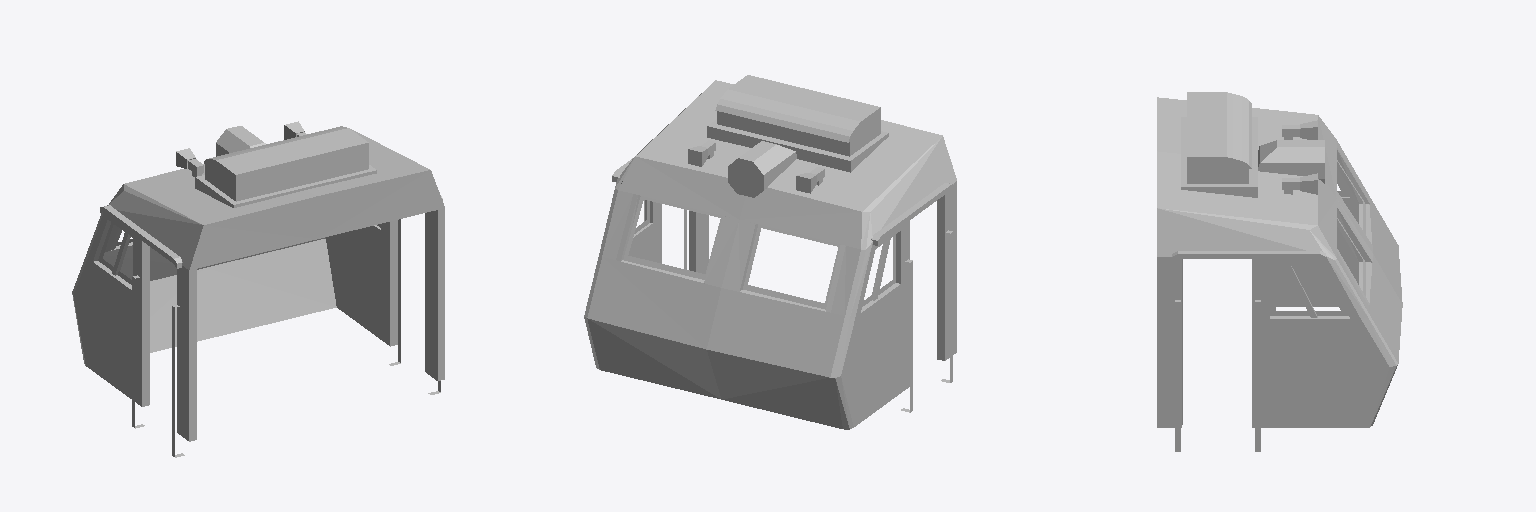
Rendered from ss8_head_late.obj.
The picture shows the model from 3 angles: view 1: azimuth 30°, elevation 25°; view 2: azimuth 150°, elevation 25°; view 3: azimuth 270°, elevation 25°; orthographic projection.
Visible parts, largest first — view 1: 大窗版; view 2: 大窗版; view 3: 大窗版.
Part boxes in pixels (left/top/right/bottom): 大窗版: left=72, top=121, right=444, bottom=457; 大窗版: left=584, top=75, right=956, bottom=429; 大窗版: left=1157, top=92, right=1402, bottom=451.
Bounding box in the file's own units: 3.25 × 3.06 × 2.6.